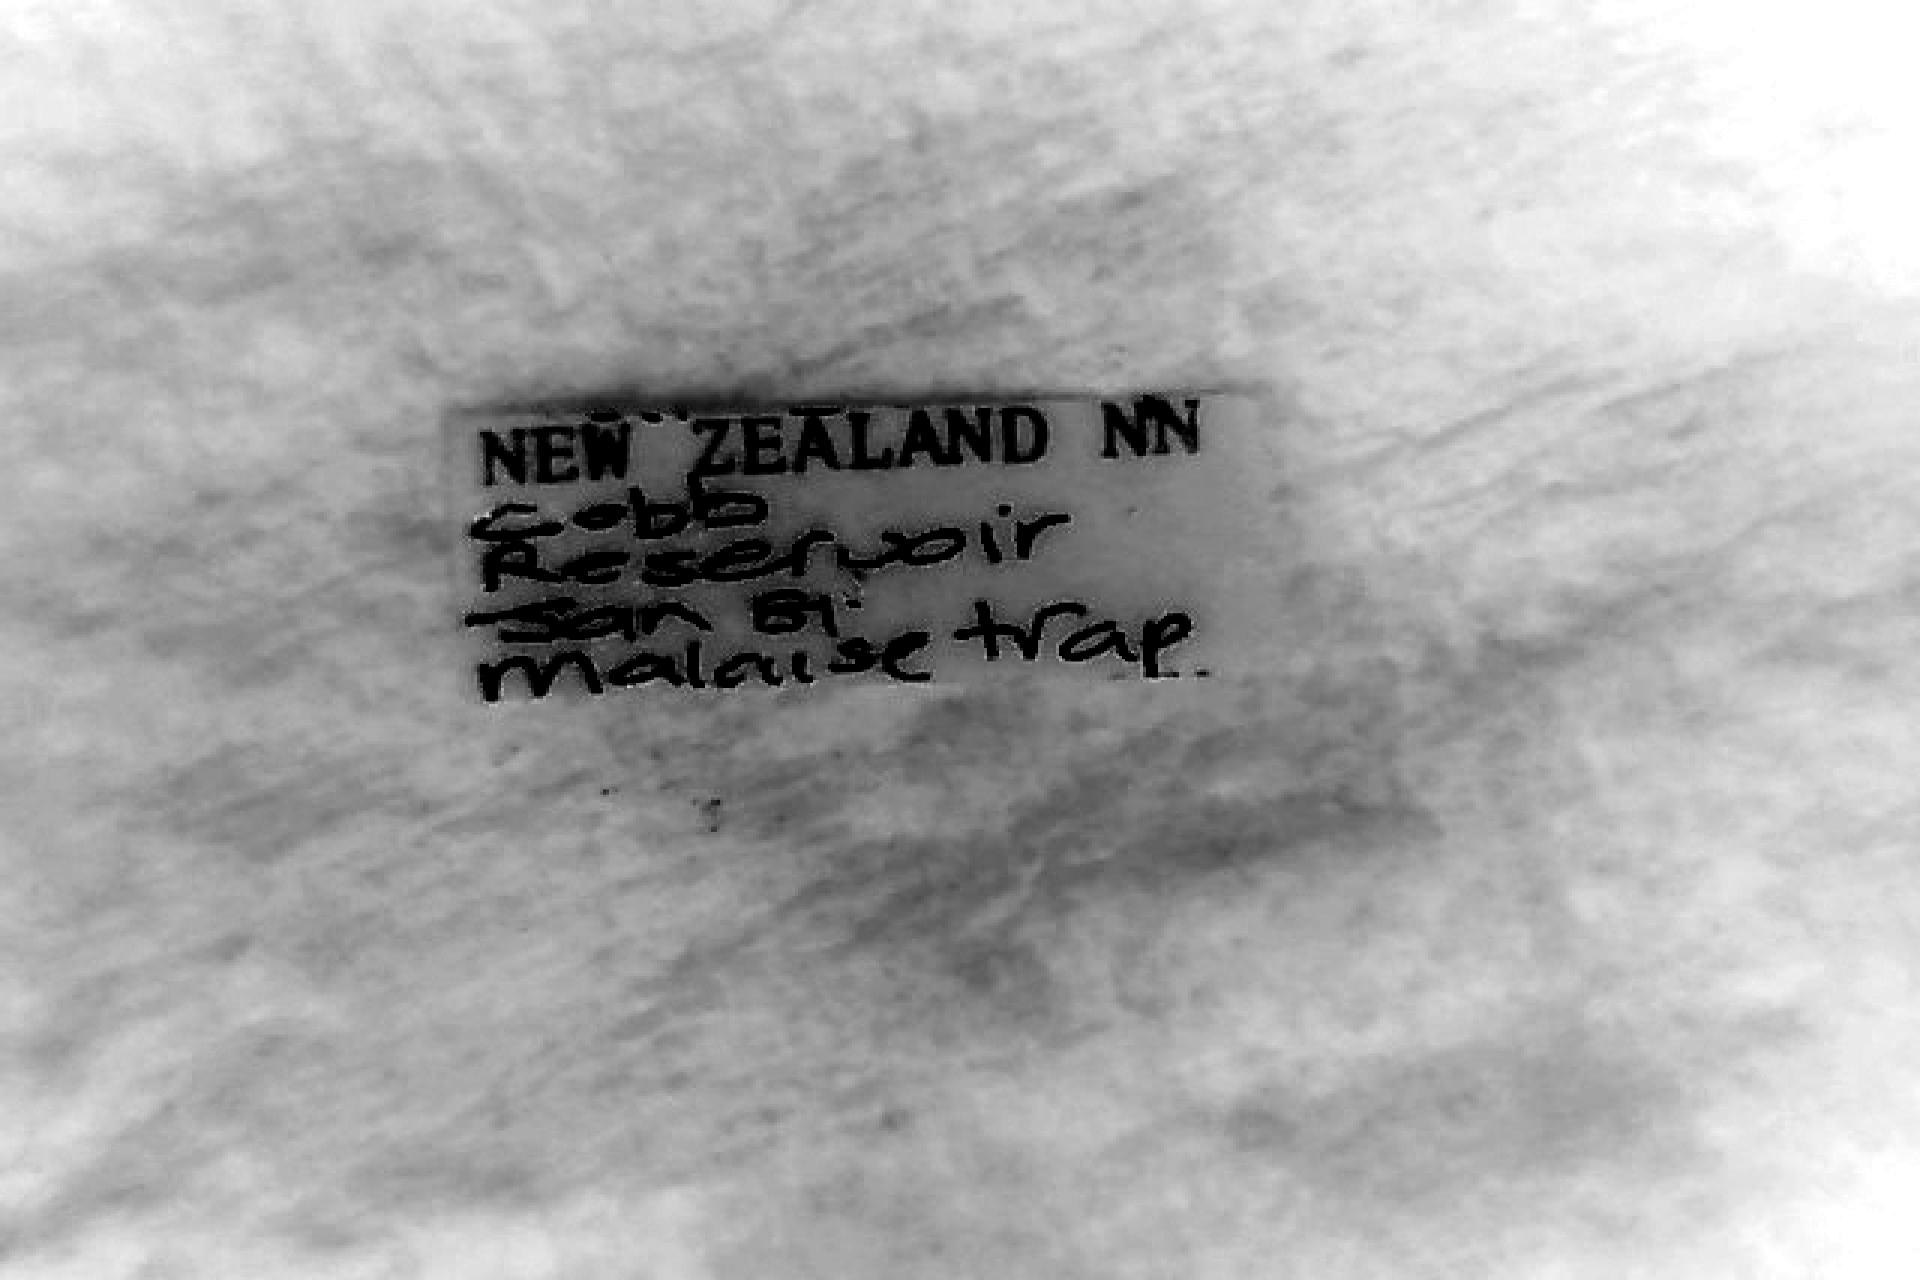mixed_label: (450, 390, 1286, 699)
